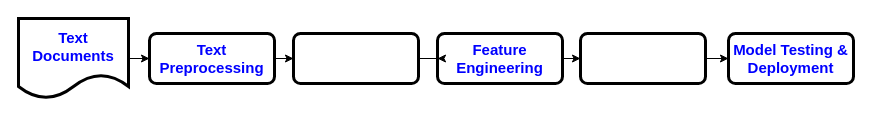
This 872x117 diagram has some shape labels left out. The centre of each missing label's shape, as x and y in pixels:
"Exploratory Data Analysis" belongs at point 356,58.
"Model Building" belongs at point 642,58.
